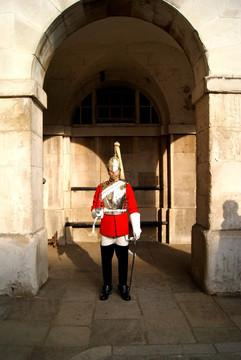up: (85, 155, 145, 303)
